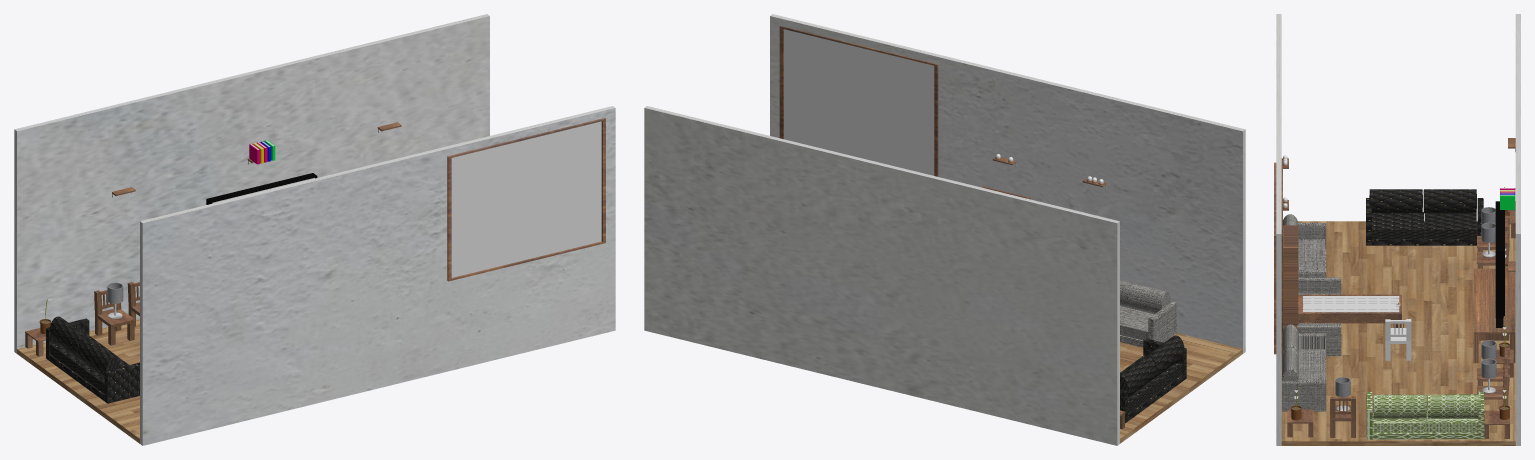
File: Room_Scene.fbx
The picture shows the model from 3 angles, left to right: view 1: azimuth 30°, elevation 25°; view 2: azimuth 150°, elevation 25°; view 3: azimuth 270°, elevation 25°; orthographic projection. The views are drawn at different scales.
Parts seen in each view (by area): view 1: WallB, WallA, Floor, Cube.004, Cylinder.001, Cylinder.002, TV; view 2: WallA, WallB, Floor, Cylinder.009, Cube.015, Cube.004, Cylinder.002, Cube.017, Cylinder.001; view 3: Floor, WallB, TV_Table, WallA, Cube.018, Cube, Cube.002, Cube.012, Cube.001, Cube.009, Cube.006, Cube.005 (+21 smaller).
Part boxes in pixels (left/top/right/bottom): WallB: left=140, top=106, right=615, bottom=445; WallA: left=14, top=14, right=489, bottom=353; Floor: left=17, top=319, right=139, bottom=443; Cube.004: left=46, top=318, right=139, bottom=403; Cylinder.001: left=78, top=337, right=120, bottom=377; Cylinder.002: left=49, top=316, right=88, bottom=359; TV: left=206, top=173, right=317, bottom=204; WallA: left=644, top=106, right=1119, bottom=445; WallB: left=770, top=14, right=1245, bottom=353; Floor: left=1120, top=333, right=1242, bottom=443; Cylinder.009: left=1120, top=280, right=1170, bottom=314; Cube.015: left=1120, top=301, right=1176, bottom=347; Cube.004: left=1120, top=338, right=1186, bottom=423; Cylinder.002: left=1120, top=356, right=1155, bottom=397; Cube.017: left=1120, top=306, right=1153, bottom=340; Cylinder.001: left=1145, top=335, right=1184, bottom=378; Floor: left=1281, top=221, right=1515, bottom=445; WallB: left=1274, top=14, right=1282, bottom=445; TV_Table: left=1473, top=268, right=1515, bottom=362; WallA: left=1515, top=14, right=1520, bottom=445; Cube.018: left=1282, top=333, right=1326, bottom=411; Cube: left=1303, top=296, right=1399, bottom=312; Cube.002: left=1283, top=225, right=1298, bottom=329; Cube.012: left=1297, top=277, right=1341, bottom=356; Cube.001: left=1298, top=294, right=1401, bottom=323; Cube.009: left=1366, top=391, right=1484, bottom=439; Cube.006: left=1424, top=213, right=1476, bottom=238; Cube.005: left=1372, top=212, right=1423, bottom=238.
Bounding box in the file's own units: 1000 × 450 × 474.
